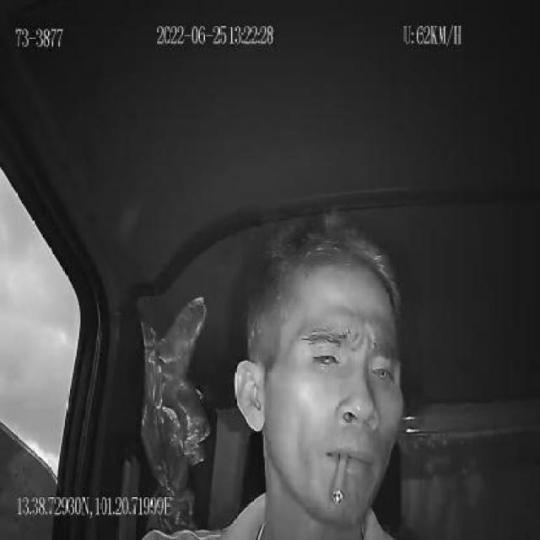smoking: (332, 451, 348, 506)
